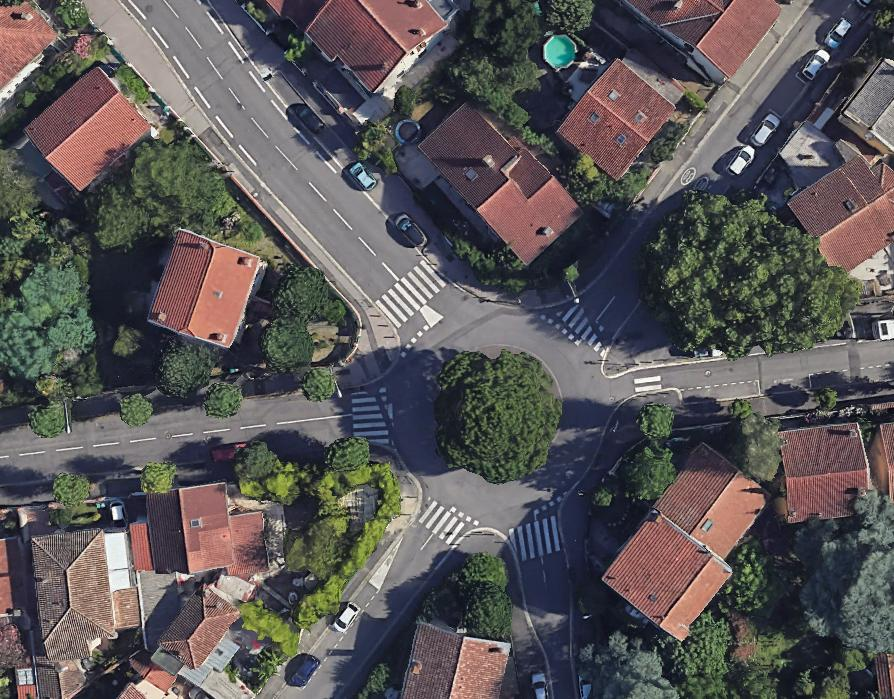maison: (411, 92, 586, 271), (32, 529, 139, 698), (599, 509, 733, 640), (20, 63, 152, 193), (269, 0, 448, 95), (145, 227, 266, 353), (555, 56, 676, 180), (650, 439, 774, 560), (785, 141, 894, 278), (127, 480, 266, 586), (618, 0, 779, 82), (777, 422, 875, 520), (399, 622, 510, 699), (154, 583, 241, 675), (0, 2, 56, 101), (838, 60, 893, 153)
